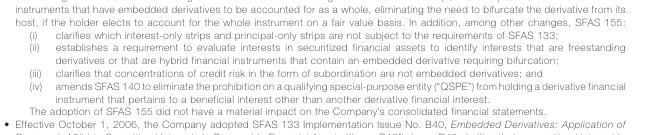table: (28, 28, 624, 103)
table column: (47, 28, 624, 103), (28, 28, 47, 103)
table row: (28, 40, 624, 66), (28, 78, 624, 103), (28, 28, 624, 40), (28, 66, 624, 78)
